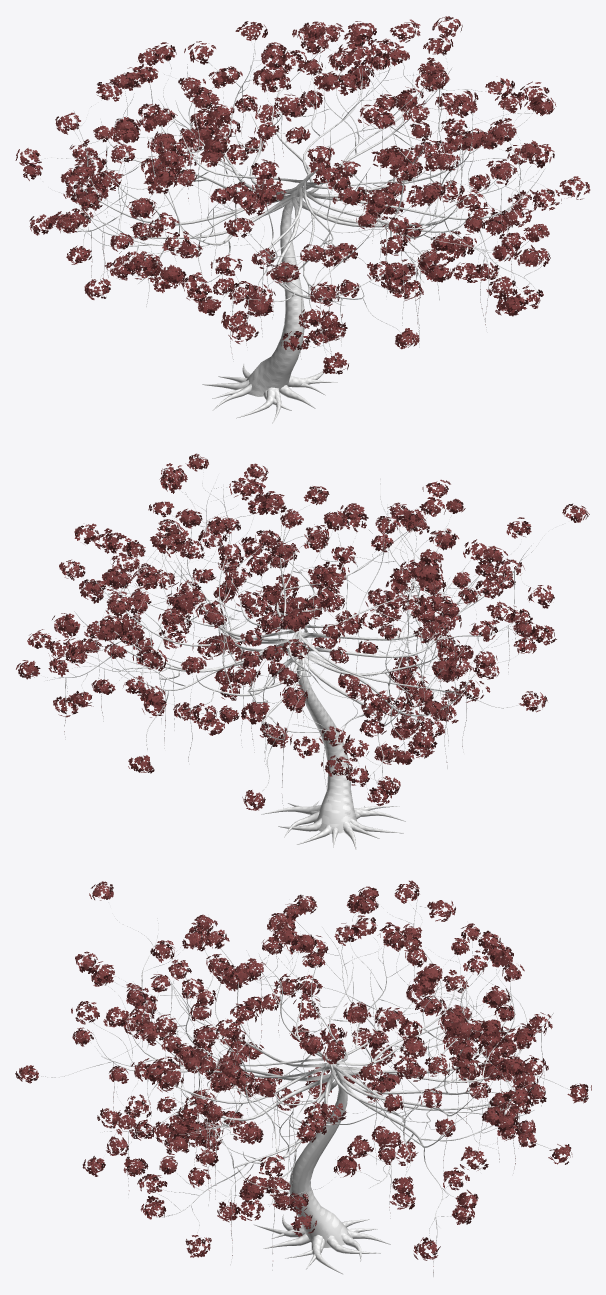
Rendered from tree.gltf.
3 renders of one model, top to bottom at view 1: azimuth 30°, elevation 25°; view 2: azimuth 150°, elevation 25°; view 3: azimuth 270°, elevation 25°, orthographic. The views are drawn at different scales.
Parts seen in each view (by area): view 1: Tree_LOD0; view 2: Tree_LOD0; view 3: Tree_LOD0.
Part boxes in pixels (x1=…): Tree_LOD0: x1=15, y1=16, x2=590, y2=423; Tree_LOD0: x1=16, y1=453, x2=589, y2=849; Tree_LOD0: x1=15, y1=880, x2=591, y2=1276.
Size of the model in its own units: 239 by 136 by 241.
Materials: 2 (2 with a texture image).
